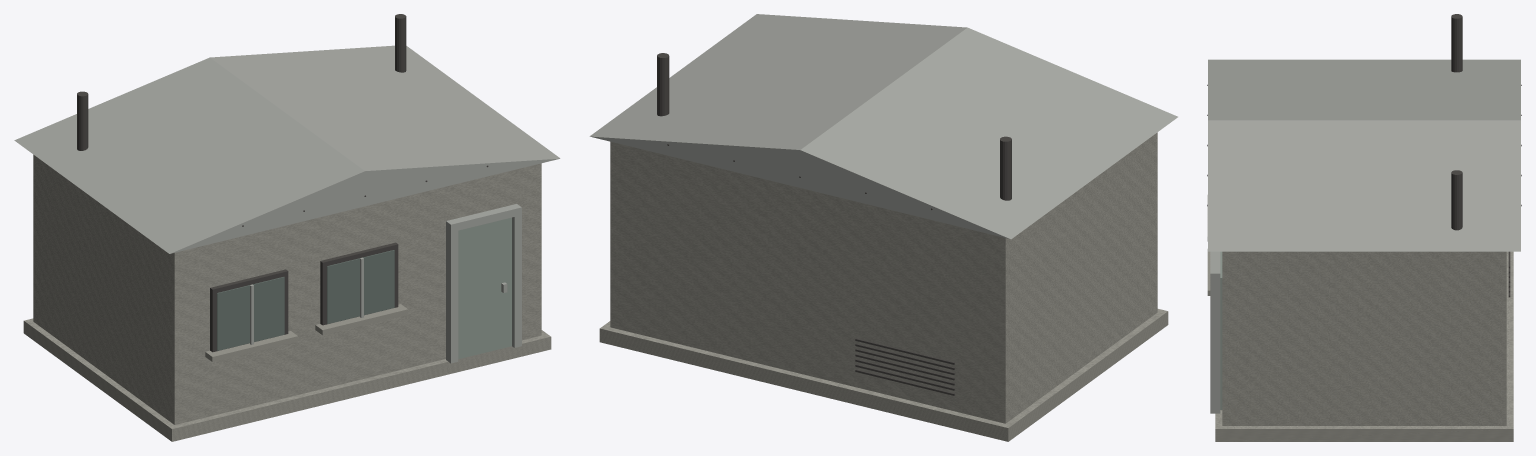
Rendered from signal-house-remote-relay-building__190.glb.
The picture shows the model from 3 angles, left to right: view 1: azimuth 30°, elevation 25°; view 2: azimuth 150°, elevation 25°; view 3: azimuth 270°, elevation 25°; orthographic projection. The views are drawn at different scales.
Visible parts, largest first — view 1: stone, metal, glass, shell, dark; view 2: stone, metal, dark; view 3: metal, stone, dark, shell.
Boxes of the visible parts, x1,y1,x2,y2 form: stone: (23,154,551,441); metal: (14,45,560,363); glass: (217,250,394,350); shell: (458,217,511,359); dark: (77,14,488,352); stone: (599,132,1168,441); metal: (589,14,1177,239); dark: (657,53,1011,395); metal: (1208,59,1520,413); stone: (1207,195,1513,441); dark: (1207,14,1521,297); shell: (1220,251,1222,409).
Bounding box in the file's own units: 6.4 × 3.95 × 4.42.
Materials: 5 (1 with a texture image).
